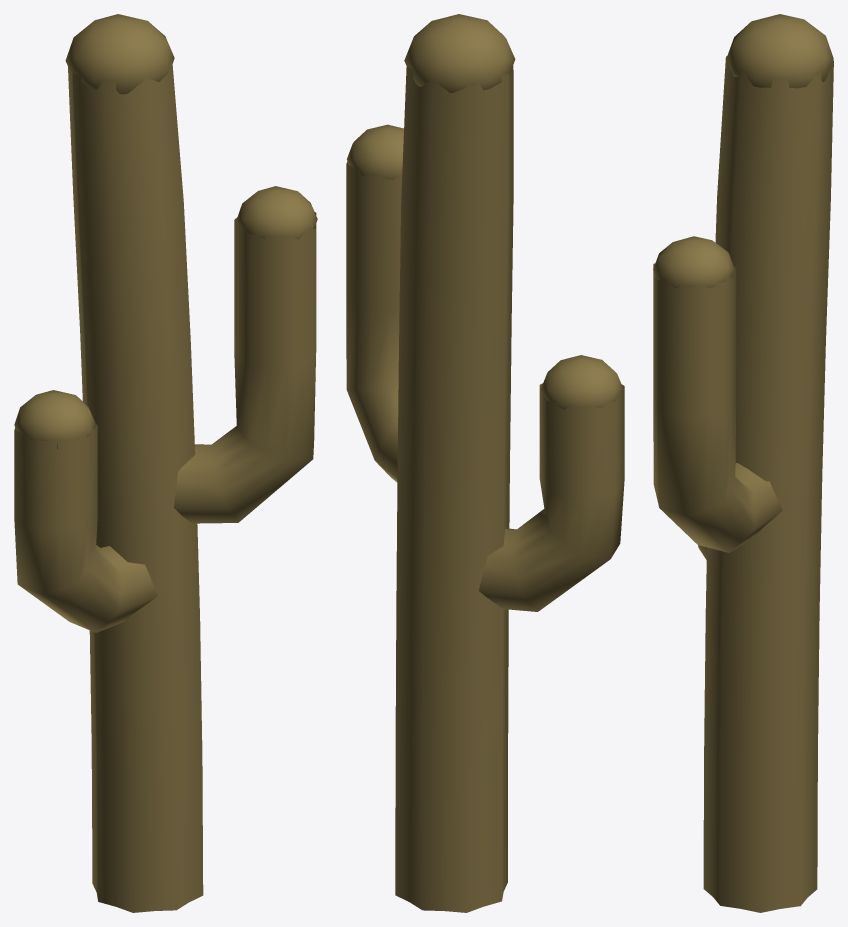
File: saguaro_2_burnt1.glb
3 renders of one model, left to right at view 1: azimuth 30°, elevation 25°; view 2: azimuth 150°, elevation 25°; view 3: azimuth 270°, elevation 25°, orthographic. The views are drawn at different scales.
Visible parts, largest first — view 1: saguaro_2_burnt1; view 2: saguaro_2_burnt1; view 3: saguaro_2_burnt1.
Boxes of the visible parts, bbox=[...] form: saguaro_2_burnt1: bbox=[14, 14, 317, 912]; saguaro_2_burnt1: bbox=[346, 14, 624, 912]; saguaro_2_burnt1: bbox=[653, 14, 833, 912].
Size of the model in its own units: 1.7 by 5.01 by 0.9553.
